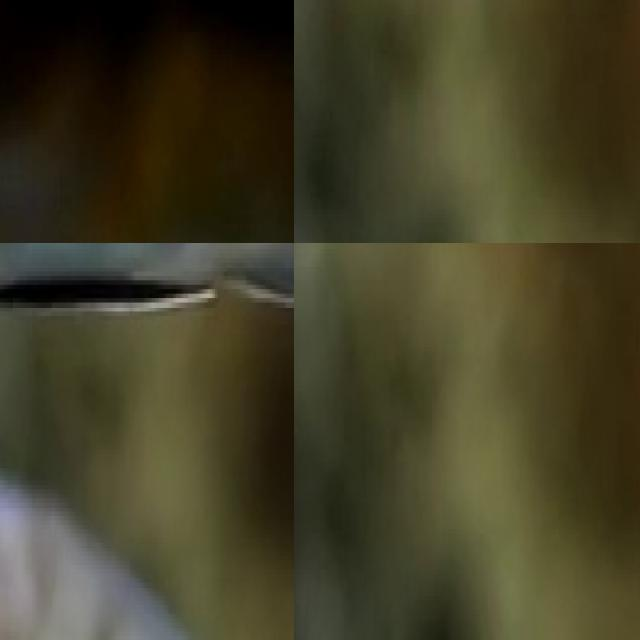fish: (0, 0, 294, 243), (0, 422, 294, 640)
